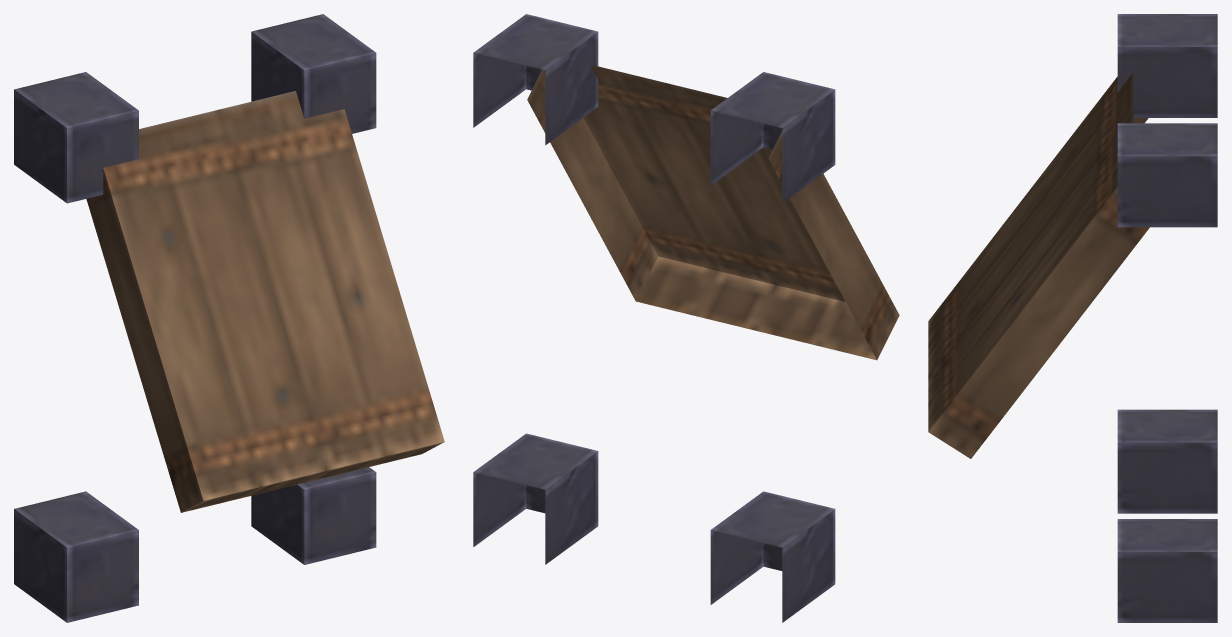
Rendered from halberd_house_prop_3.FBX.
3 renders of one model, left to right at view 1: azimuth 30°, elevation 25°; view 2: azimuth 150°, elevation 25°; view 3: azimuth 270°, elevation 25°, orthographic. The views are drawn at different scales.
Visible parts, largest first — view 1: halberd_house_prop_3; view 2: halberd_house_prop_3; view 3: halberd_house_prop_3.
Boxes of the visible parts, x1,y1,x2,y2 form: halberd_house_prop_3: (14, 14, 444, 622); halberd_house_prop_3: (473, 14, 899, 622); halberd_house_prop_3: (928, 14, 1217, 622).
Size of the model in its own units: 15.67 by 23.96 by 13.46.
